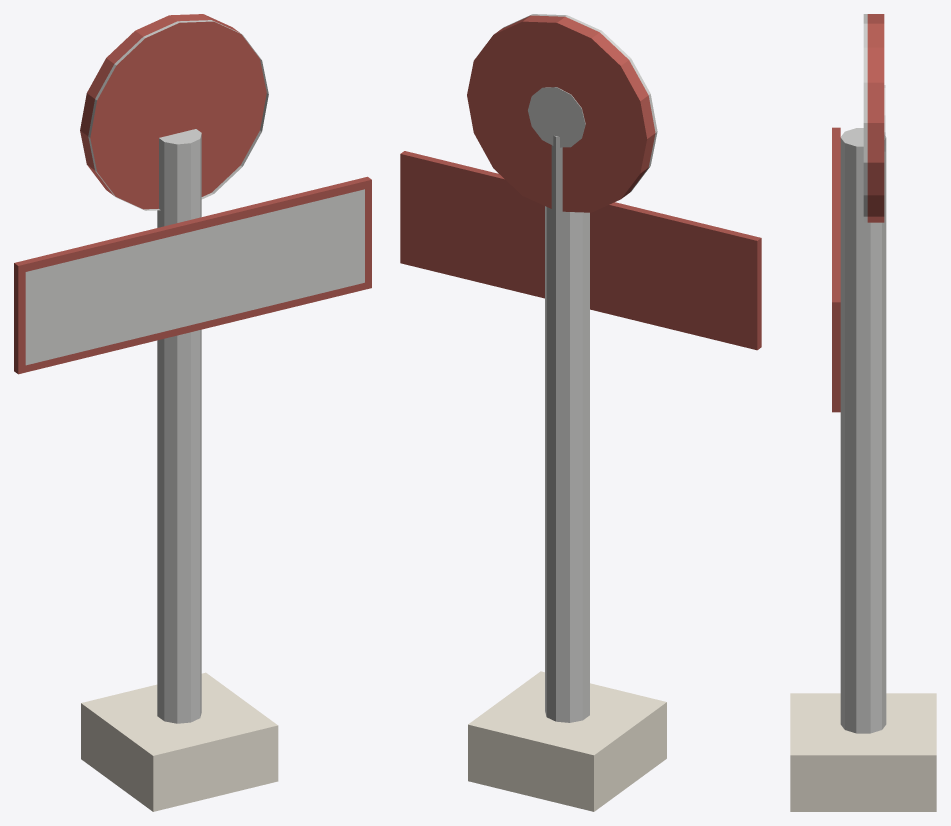
The model's file is SM_BM_BHip_FinishPost.glb.
The picture shows the model from 3 angles, left to right: view 1: azimuth 30°, elevation 25°; view 2: azimuth 150°, elevation 25°; view 3: azimuth 270°, elevation 25°; orthographic projection.
Visible parts, largest first — view 1: SM_BM_BHip_FinishPost; view 2: SM_BM_BHip_FinishPost; view 3: SM_BM_BHip_FinishPost.
Part boxes in pixels (box(x1,y1,x2,y2)): SM_BM_BHip_FinishPost: box(14, 14, 371, 811); SM_BM_BHip_FinishPost: box(400, 14, 761, 811); SM_BM_BHip_FinishPost: box(790, 14, 936, 811).
Bounding box in the file's own units: 1.98 × 4 × 0.7.
